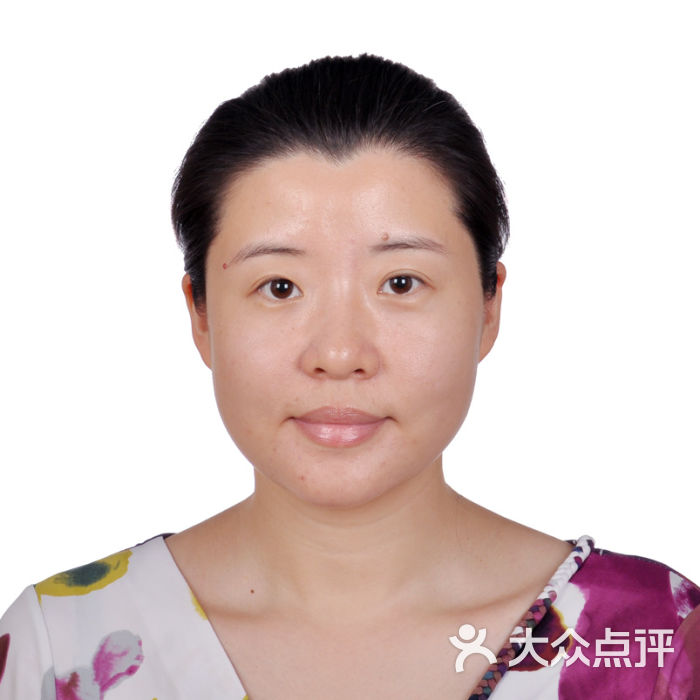unmask: (218, 183, 459, 480)
